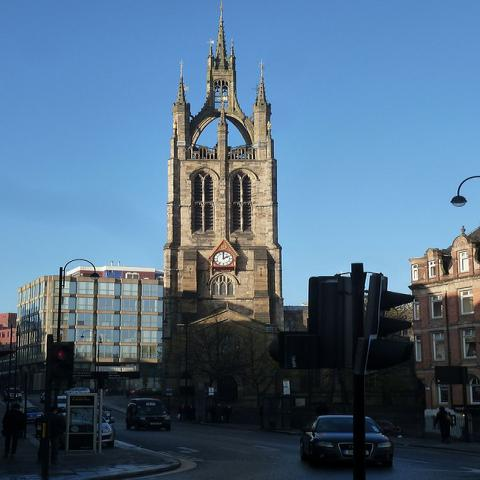car: (300, 411, 395, 471), (70, 408, 114, 446), (124, 398, 171, 431), (375, 419, 402, 437), (3, 386, 25, 402), (26, 406, 44, 422), (128, 387, 162, 395), (57, 396, 69, 412), (64, 388, 91, 394)
